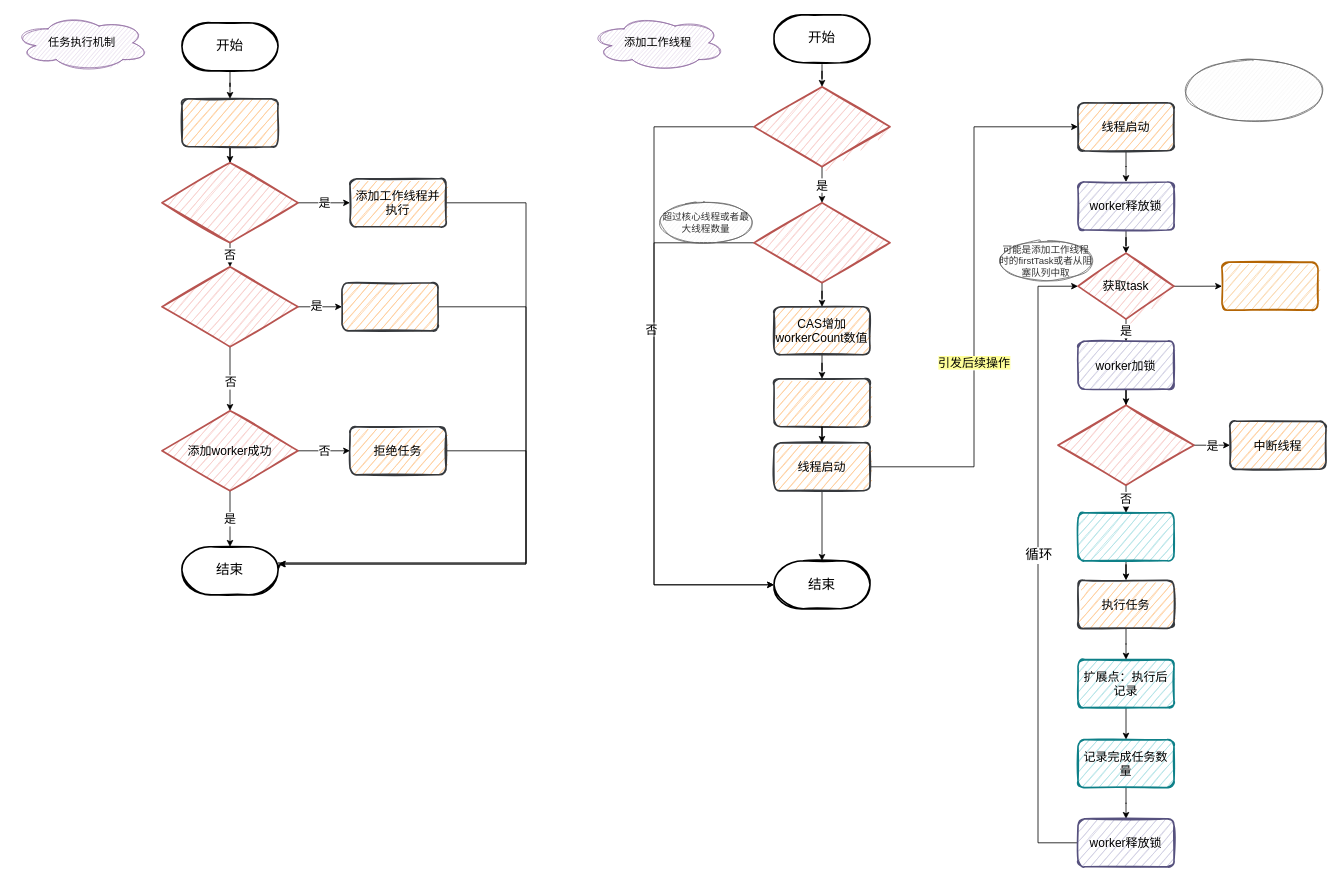
This 1341x881 diagram has some shape labels left out. Each missing label, with the box of its shape:
recheck: (341, 282, 438, 331)
Worker本质是Runable，内部持有线程和任务，当线程启动时，Thread#run会调用Worker#runWorker: (1181, 58, 1326, 123)
关闭Worker: (1221, 261, 1318, 311)
增加worker: (773, 378, 870, 427)
工作线程数量 小于核心线程数: (161, 162, 298, 243)
工作线程数量判断: (753, 202, 890, 283)
扩展点：执行前记录: (1077, 512, 1174, 561)
提交任务: (181, 98, 278, 147)
线程池为运行态 &&添加工作队列元素成功: (161, 266, 298, 347)
线程池终止 &&线程未中断: (1057, 404, 1194, 486)
线程池运行状态判断: (753, 86, 890, 167)
